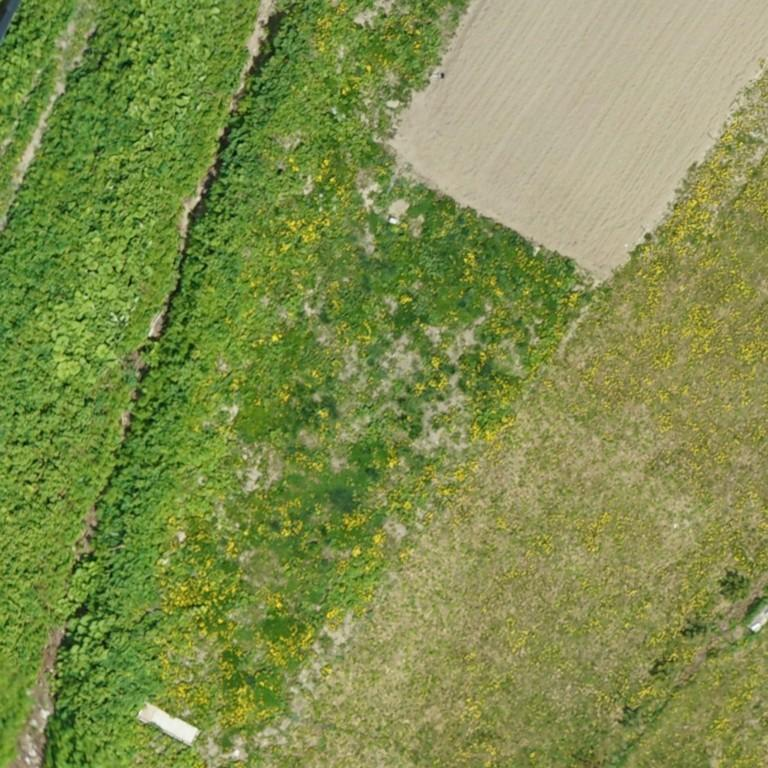hogweed: (44, 0, 353, 767), (0, 0, 258, 767), (0, 0, 68, 142)
